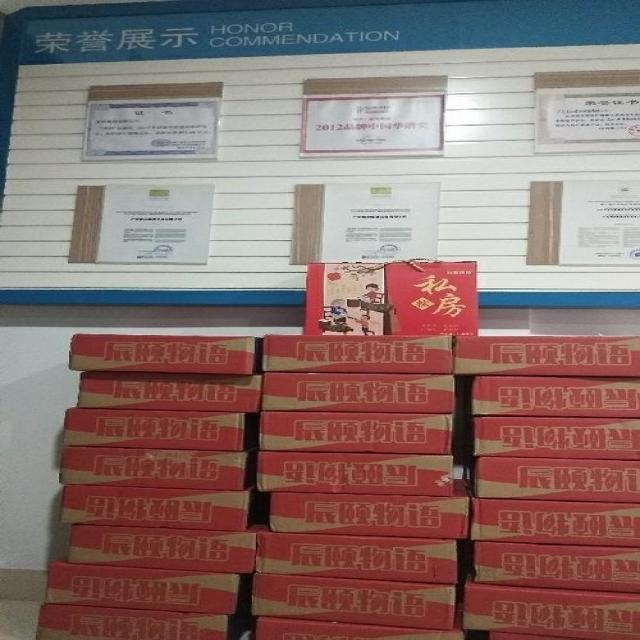box: (303, 260, 480, 335), (268, 479, 470, 540), (256, 526, 460, 585), (42, 558, 253, 615), (463, 573, 640, 639), (251, 574, 457, 630), (67, 524, 261, 574), (61, 485, 261, 531), (56, 446, 256, 491), (257, 453, 456, 497), (472, 541, 640, 593), (61, 408, 257, 452), (463, 457, 640, 504), (257, 412, 453, 454), (261, 333, 452, 376), (471, 498, 640, 546), (76, 370, 261, 413), (69, 333, 262, 374), (452, 335, 640, 376), (467, 417, 640, 461), (33, 605, 248, 640), (262, 374, 454, 413), (466, 376, 640, 419), (256, 617, 465, 639), (492, 632, 595, 640)
